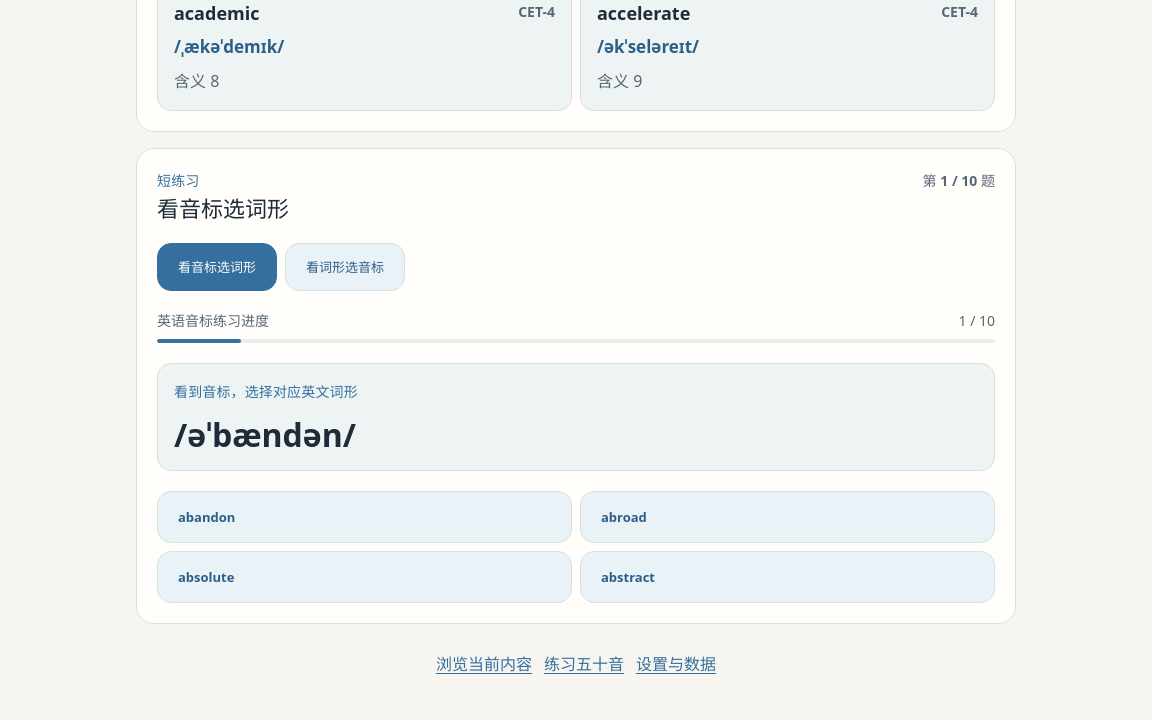
Test case: IpaPracticePage › shows ten canonical English words and gives IPA recognition feedback
(page scrolled)
Click the button "abroad" at x=624, y=517, box left=580, top=491, right=995, bottom=543
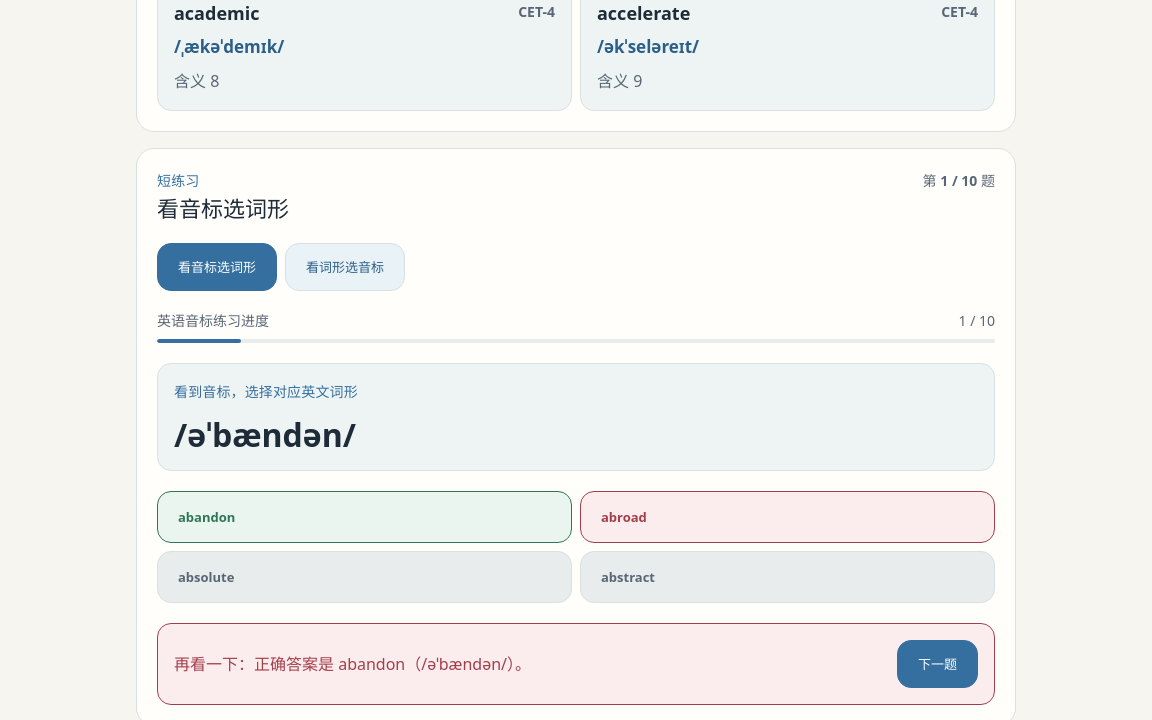
expect the text "再看一下：正确答案是 abandon（/əˈbændən/）。" is shown: met, box left=174, top=652, right=531, bottom=676
Click the button "下一题" at x=938, y=664, box left=897, top=640, right=978, bottom=688
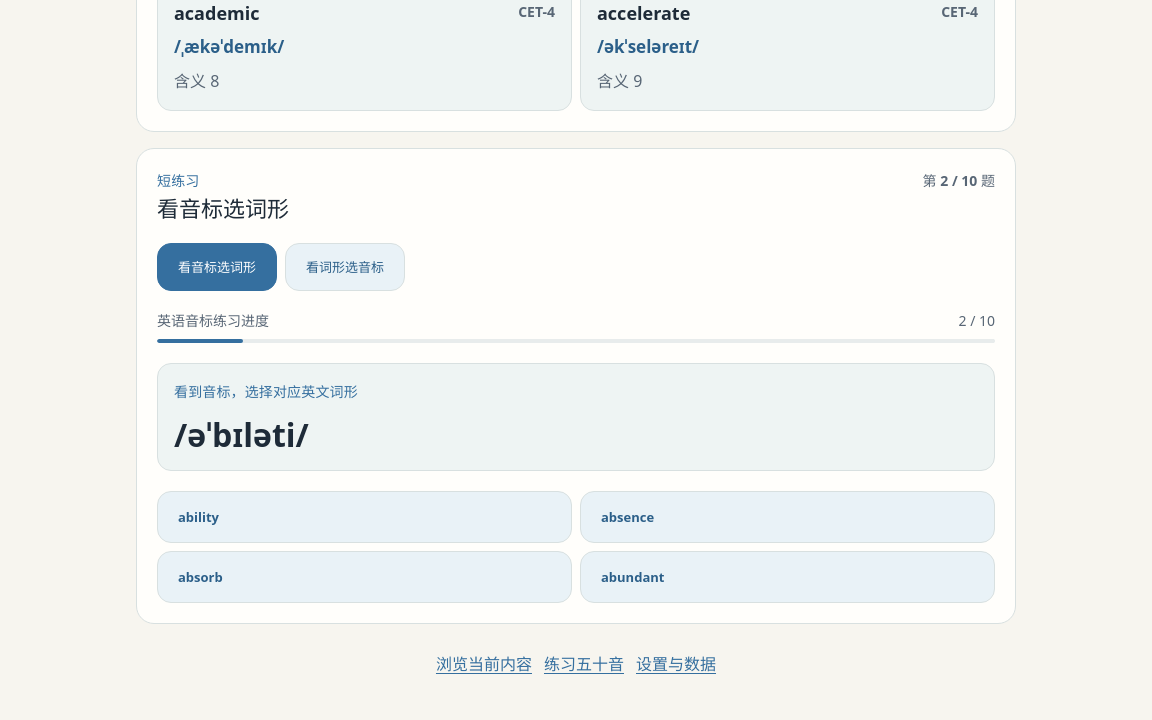
expect the text "第 2 / 10 题" is shown: met, box left=923, top=169, right=995, bottom=193
